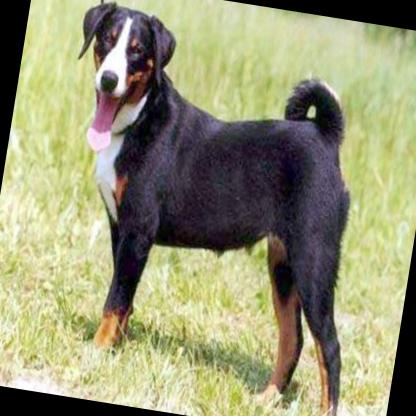Appenzeller: (22, 0, 400, 416)
